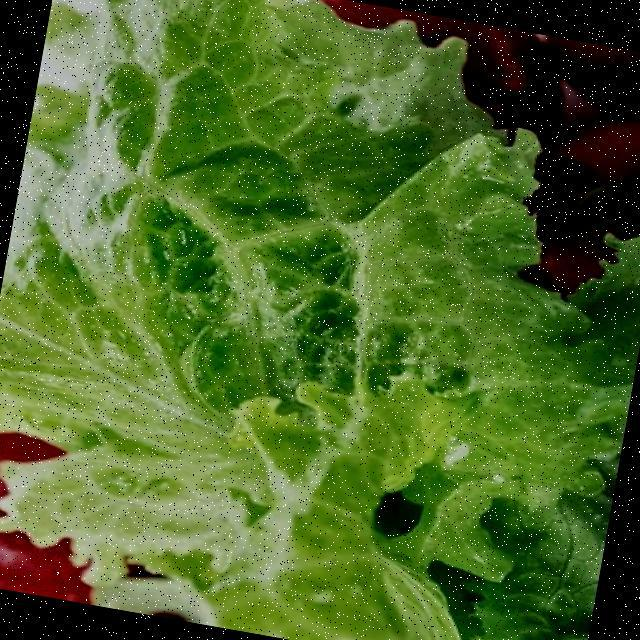Healthy: (0, 55, 508, 501)
